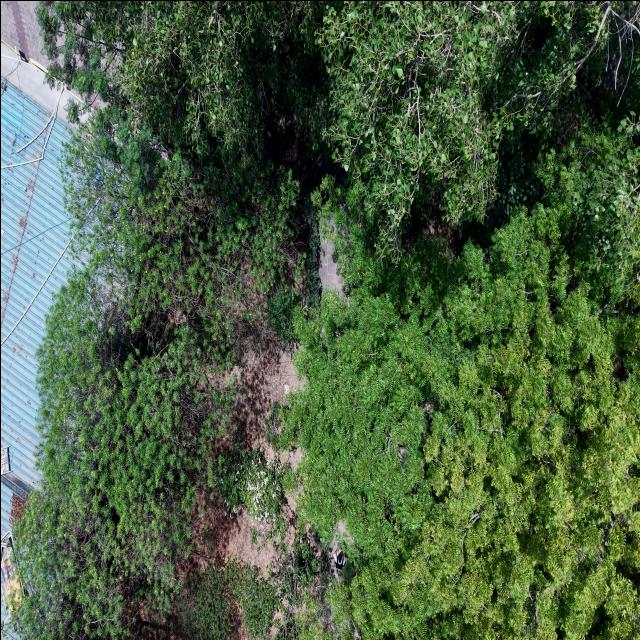DRY_AREA: (176, 493, 295, 590), (177, 493, 296, 590), (224, 341, 301, 470), (1, 1, 80, 122), (232, 342, 301, 446), (190, 497, 278, 578), (1, 1, 47, 66), (318, 235, 342, 292)
ROOFTOP_BUILDING: (1, 62, 71, 544), (1, 85, 69, 529)
VEGETATION_TREE: (12, 1, 639, 639), (286, 133, 639, 639), (38, 1, 639, 255), (13, 113, 298, 639), (316, 1, 639, 255), (13, 274, 226, 639), (37, 1, 326, 184)
